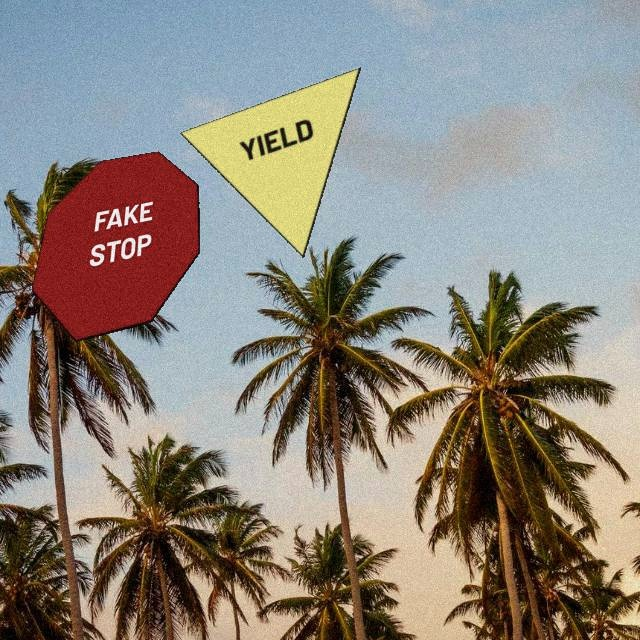FAKE_STOP: (31, 151, 200, 342)
YIELD: (179, 67, 361, 258)
